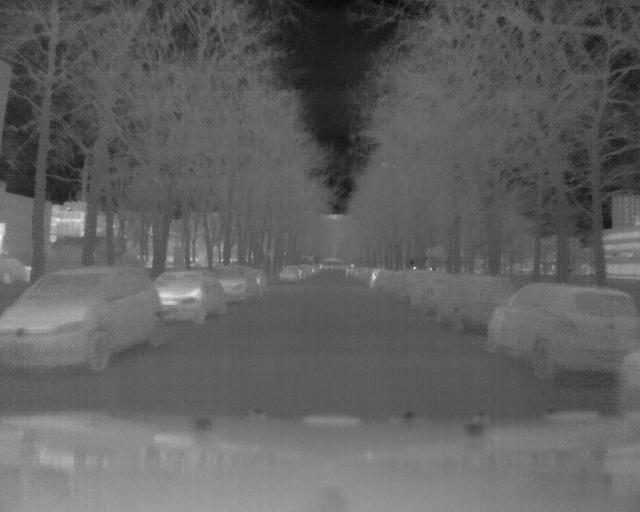car: (1, 262, 169, 377), (485, 279, 640, 385), (431, 271, 520, 337), (150, 268, 229, 321), (205, 263, 262, 306)
